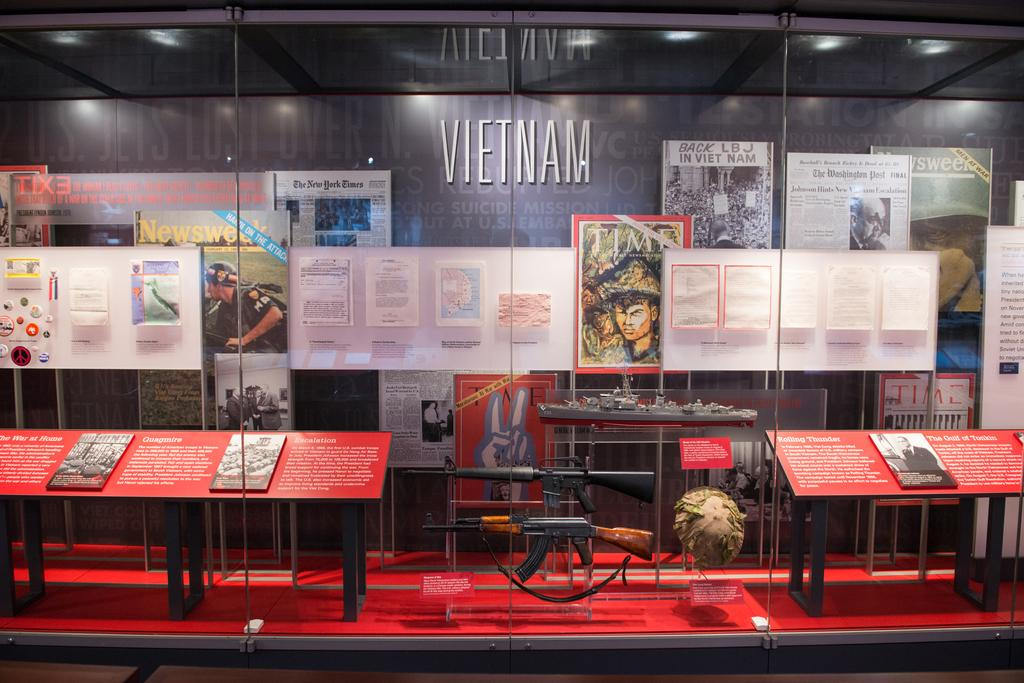Rifle: (432, 513, 652, 579)
